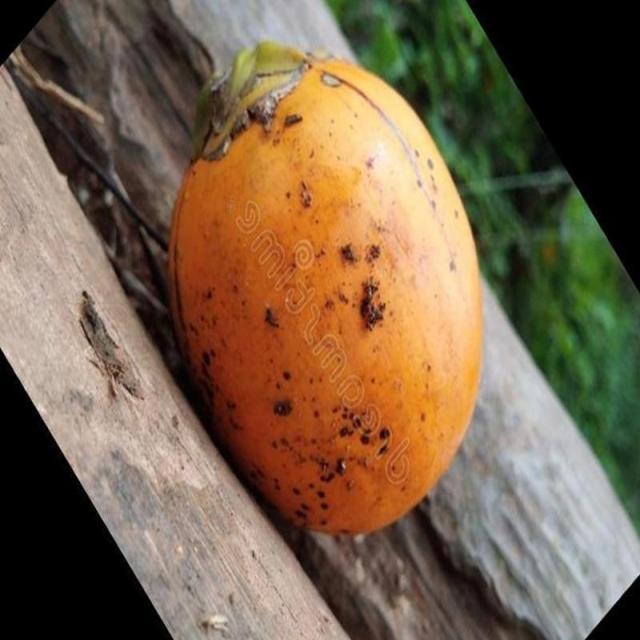good: (162, 41, 485, 539)
